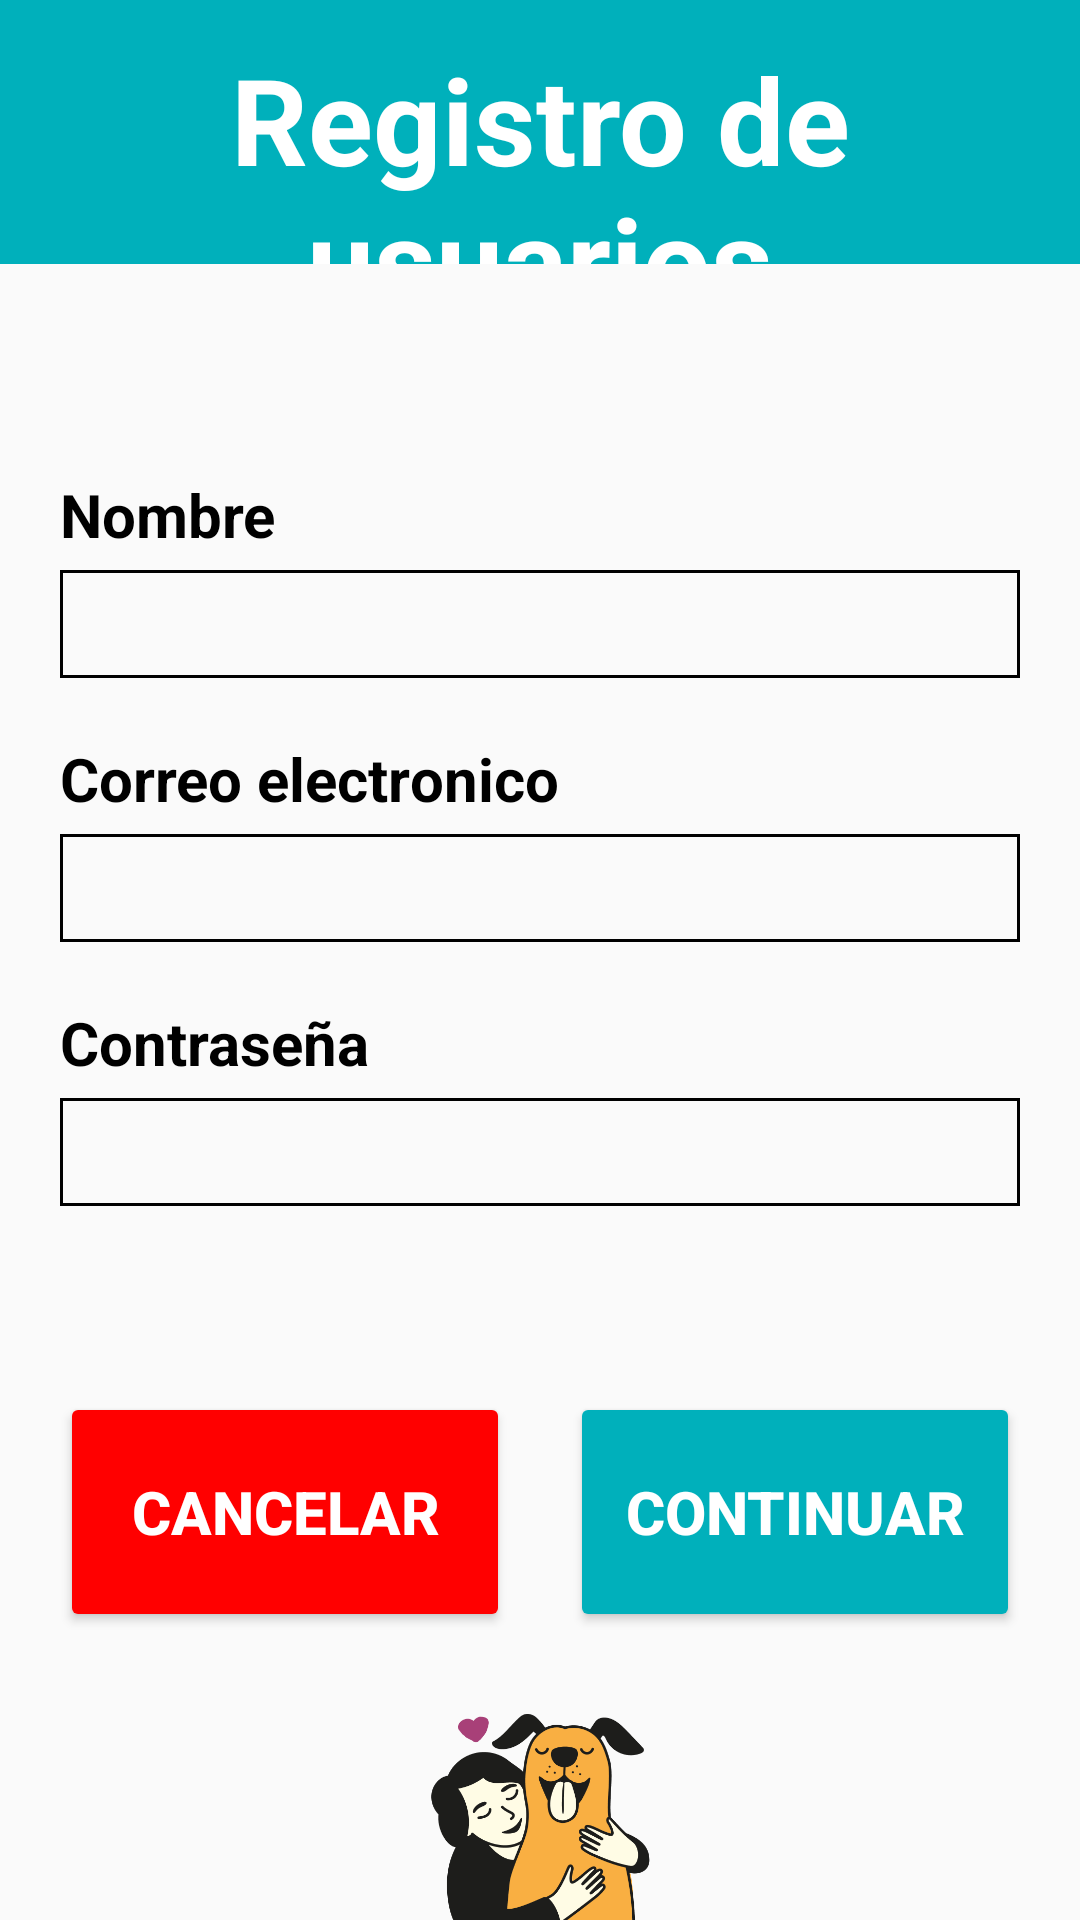

Icons on this 1080 × 1920 Android screen, each with the point to tap as (x=x, y=y):
perritor: (x=540, y=1817)
